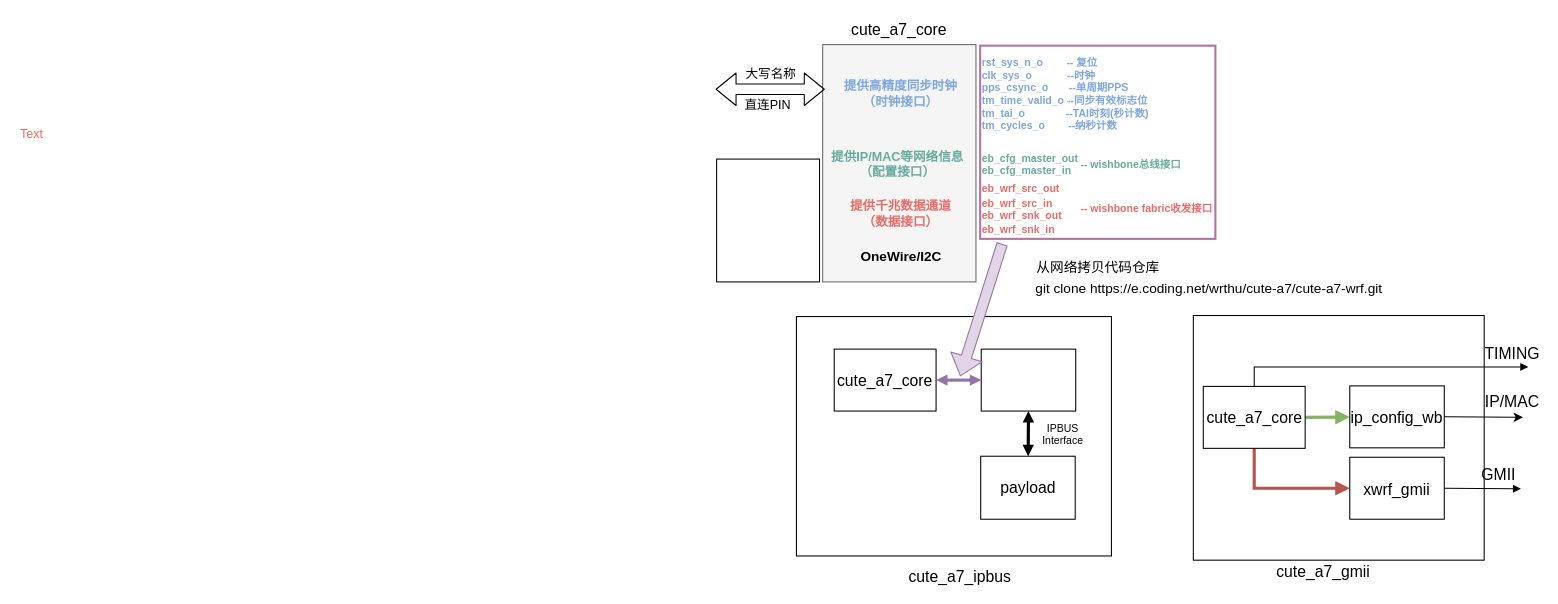
Image size: 1558x604. Some labels were removed from this diagram. The box of each missing label's shape, as (x1, y1, x2, y2) in pixels:
onewire_i onewire_oen_o sfp_scl_i sfp_scl_o sfp_sda_i sfp_sda_o sfp_det_i: (716, 158, 820, 282)
xwrf_ipbus: (980, 348, 1076, 411)
